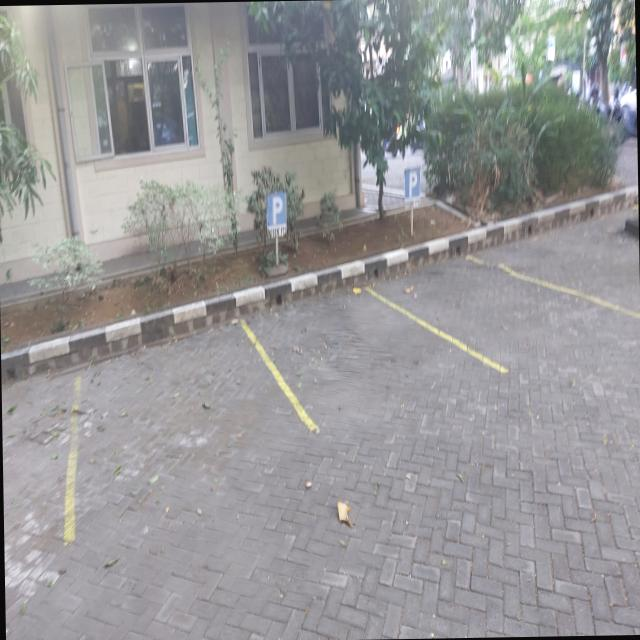free: (63, 319, 321, 539), (242, 284, 509, 433), (368, 255, 640, 371), (469, 218, 639, 317)
